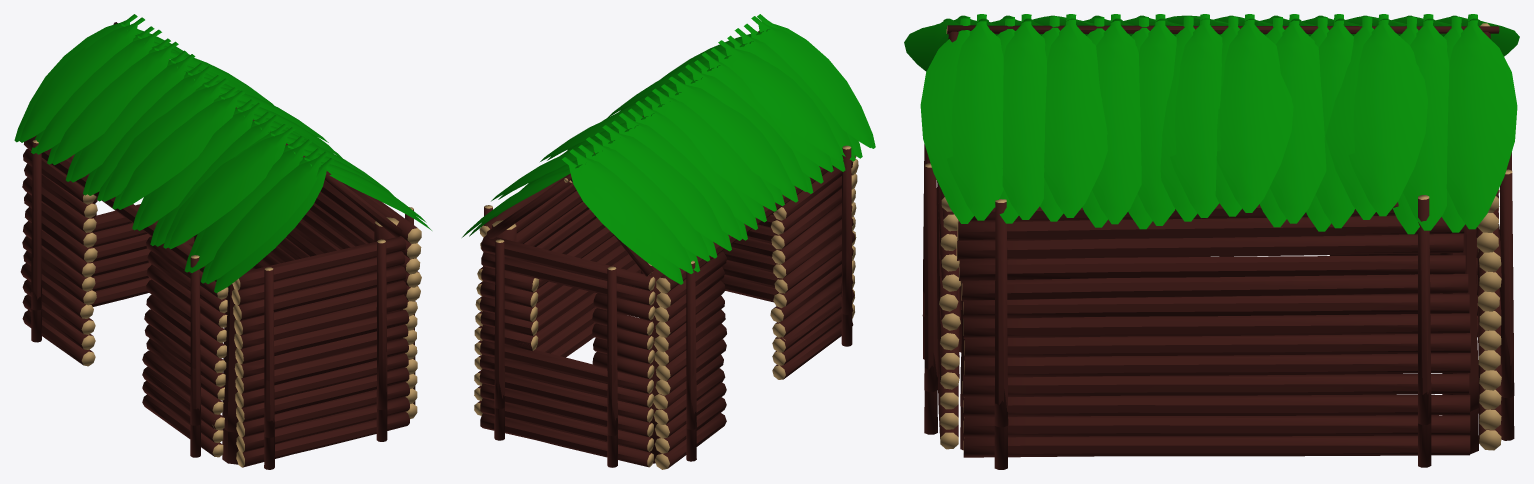
The model's file is SM_WoodenHut_001.fbx.
3 views of the same model, side by side, from view 1: azimuth 30°, elevation 25°; view 2: azimuth 150°, elevation 25°; view 3: azimuth 270°, elevation 25° (orthographic). The views are drawn at different scales.
Visible parts, largest first — view 1: Plane.362; view 2: Plane.362; view 3: Plane.362.
Part boxes in pixels (<box>): Plane.362: <box>14,14,431,469</box>; Plane.362: <box>462,14,875,469</box>; Plane.362: <box>904,14,1519,469</box>.
Bounding box in the file's own units: 375 × 448 × 644.
